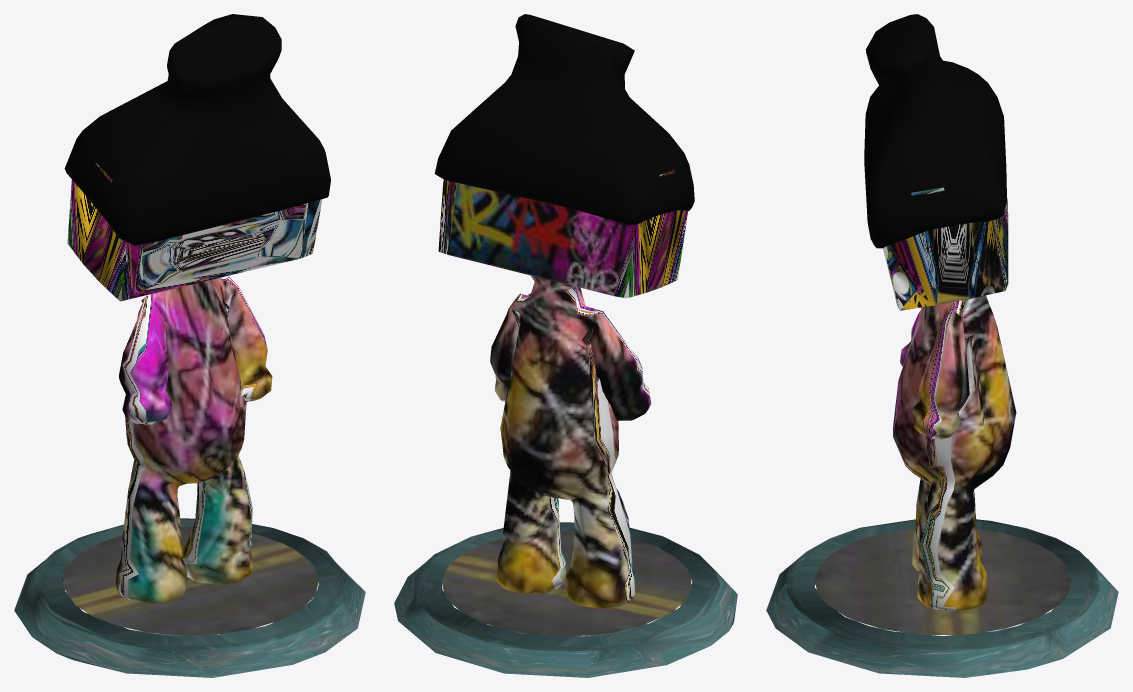
3 views of the same model, side by side, from view 1: azimuth 30°, elevation 25°; view 2: azimuth 150°, elevation 25°; view 3: azimuth 270°, elevation 25° (orthographic). The views are drawn at different scales.
Bounding box in the file's own units: 1.44 × 2.64 × 1.44.
5 materials, 4 textured.
